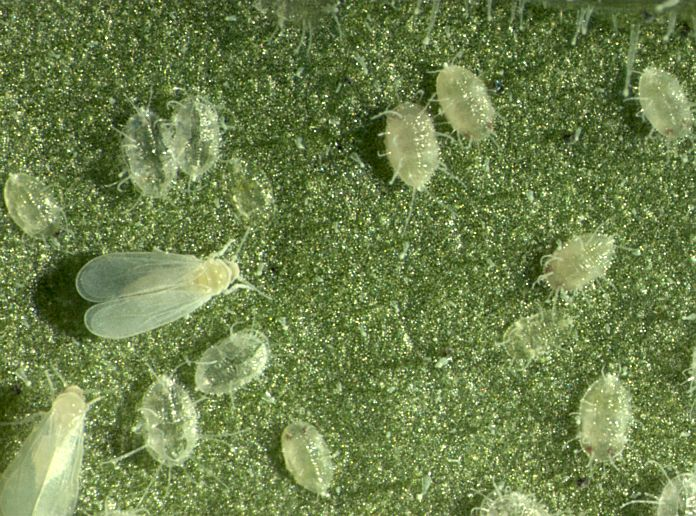whitefly: (77, 227, 269, 338), (1, 370, 115, 516)
